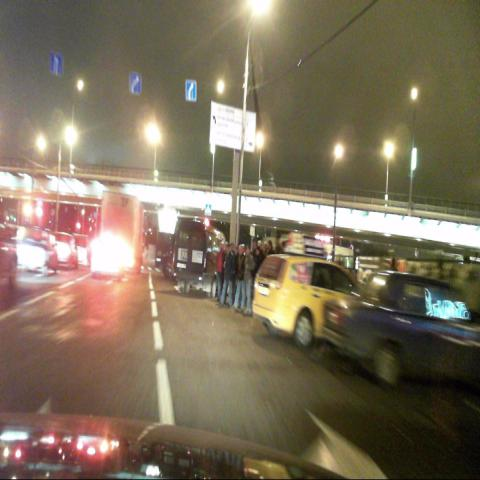5_15_2: (49, 52, 62, 73)
